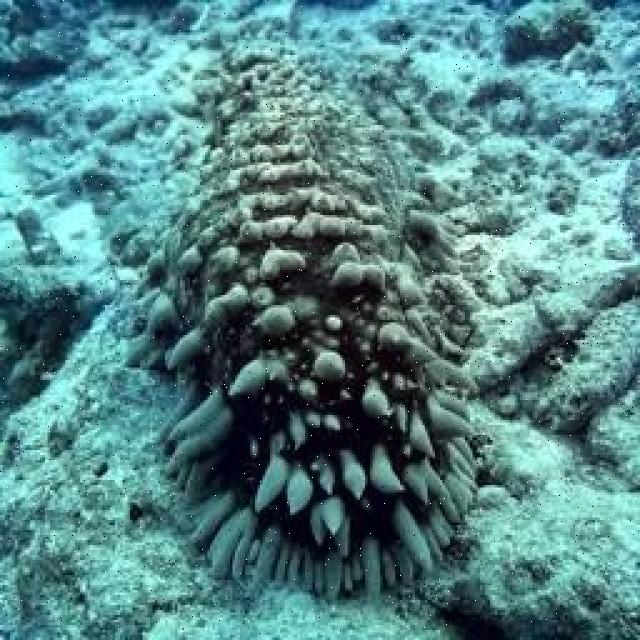reefs: (102, 43, 492, 603)
